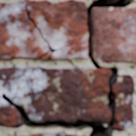brick: (28, 0, 86, 59), (0, 1, 47, 59), (93, 8, 135, 62), (33, 132, 72, 135)
broken_brick: (0, 66, 110, 124), (114, 74, 135, 131), (0, 98, 22, 128)
crack: (0, 0, 134, 135), (24, 0, 73, 60)
